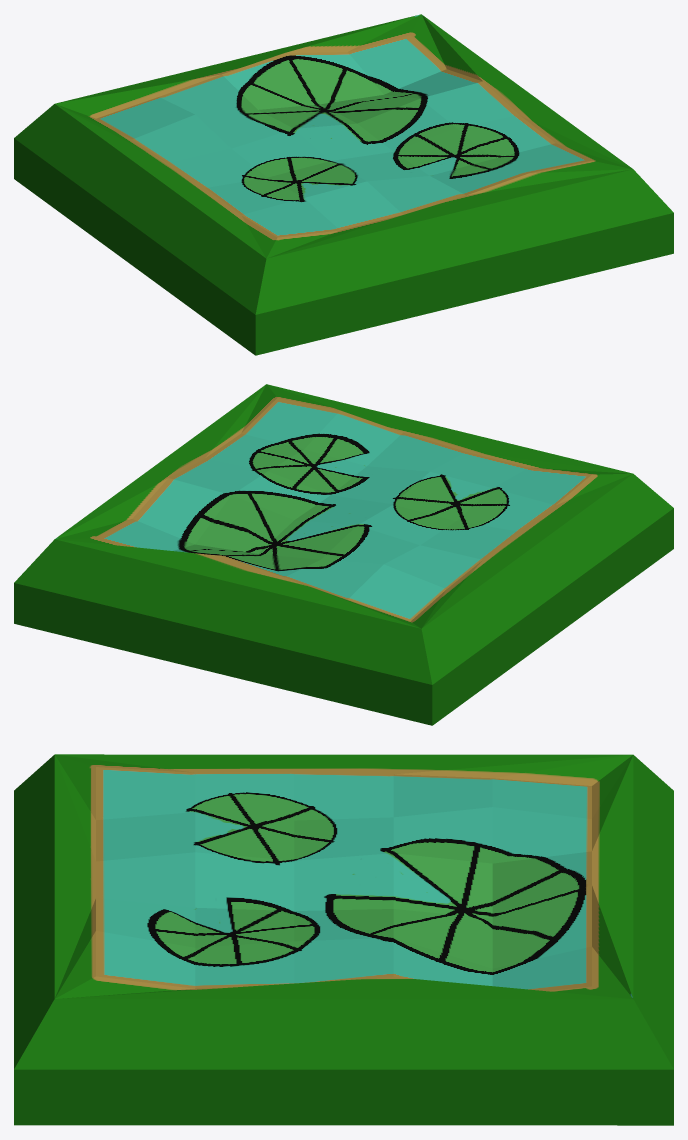
The model's file is ocean_sqr_swamp.glb.
3 renders of one model, top to bottom at view 1: azimuth 30°, elevation 25°; view 2: azimuth 150°, elevation 25°; view 3: azimuth 270°, elevation 25°, orthographic. The views are drawn at different scales.
Parts seen in each view (by area): view 1: Cylinder; view 2: Cylinder; view 3: Cylinder.
Boxes of the visible parts, box(x1,y1,x2,y2) form: Cylinder: box(14, 14, 673, 355); Cylinder: box(14, 384, 673, 725); Cylinder: box(14, 754, 673, 1125).
Size of the model in its own units: 1 by 0.2038 by 1.
Materials: 1 (1 with a texture image).
